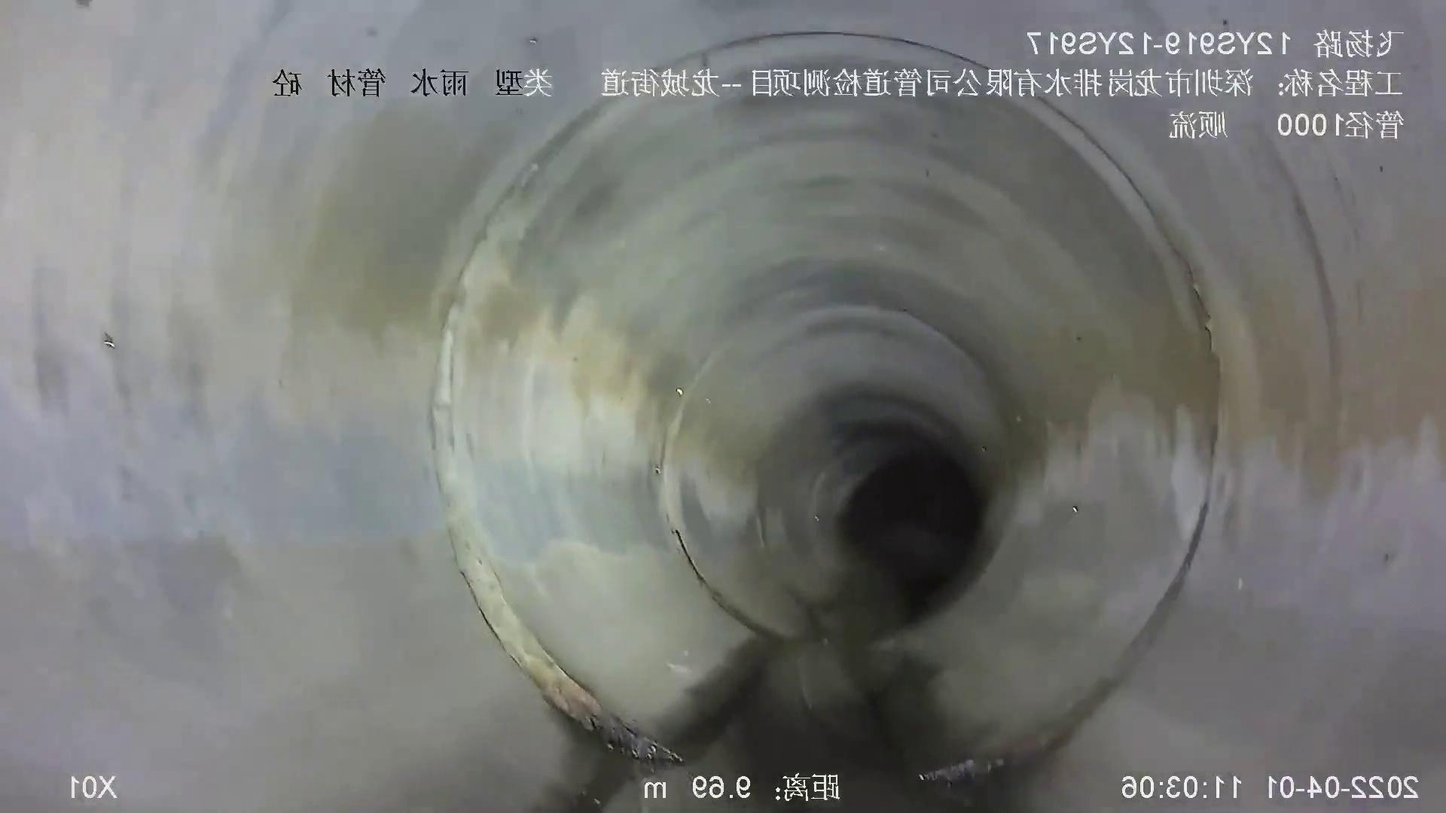CKTJ: (431, 32, 1212, 758)
